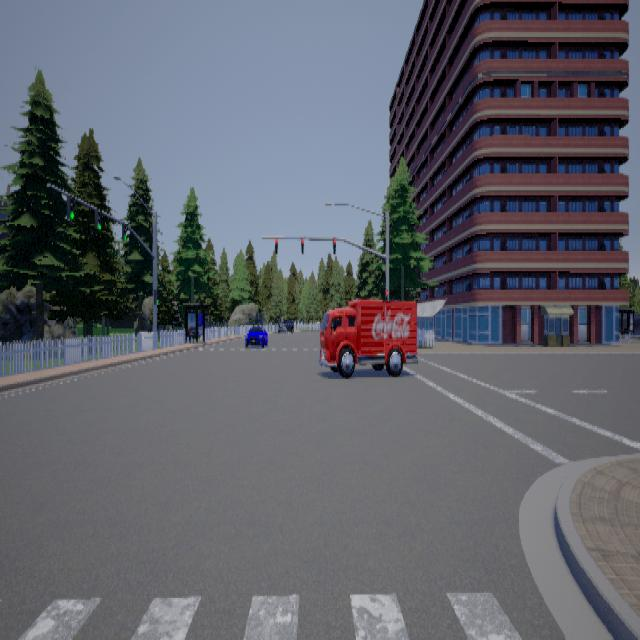green_light: (66, 194, 74, 219), (94, 207, 101, 229), (121, 221, 127, 239), (153, 288, 158, 303)
red_light: (300, 236, 304, 254), (332, 235, 335, 252), (274, 235, 277, 252)
traffic_light: (384, 288, 387, 300)
vehicle: (317, 298, 417, 377), (242, 322, 269, 347)
